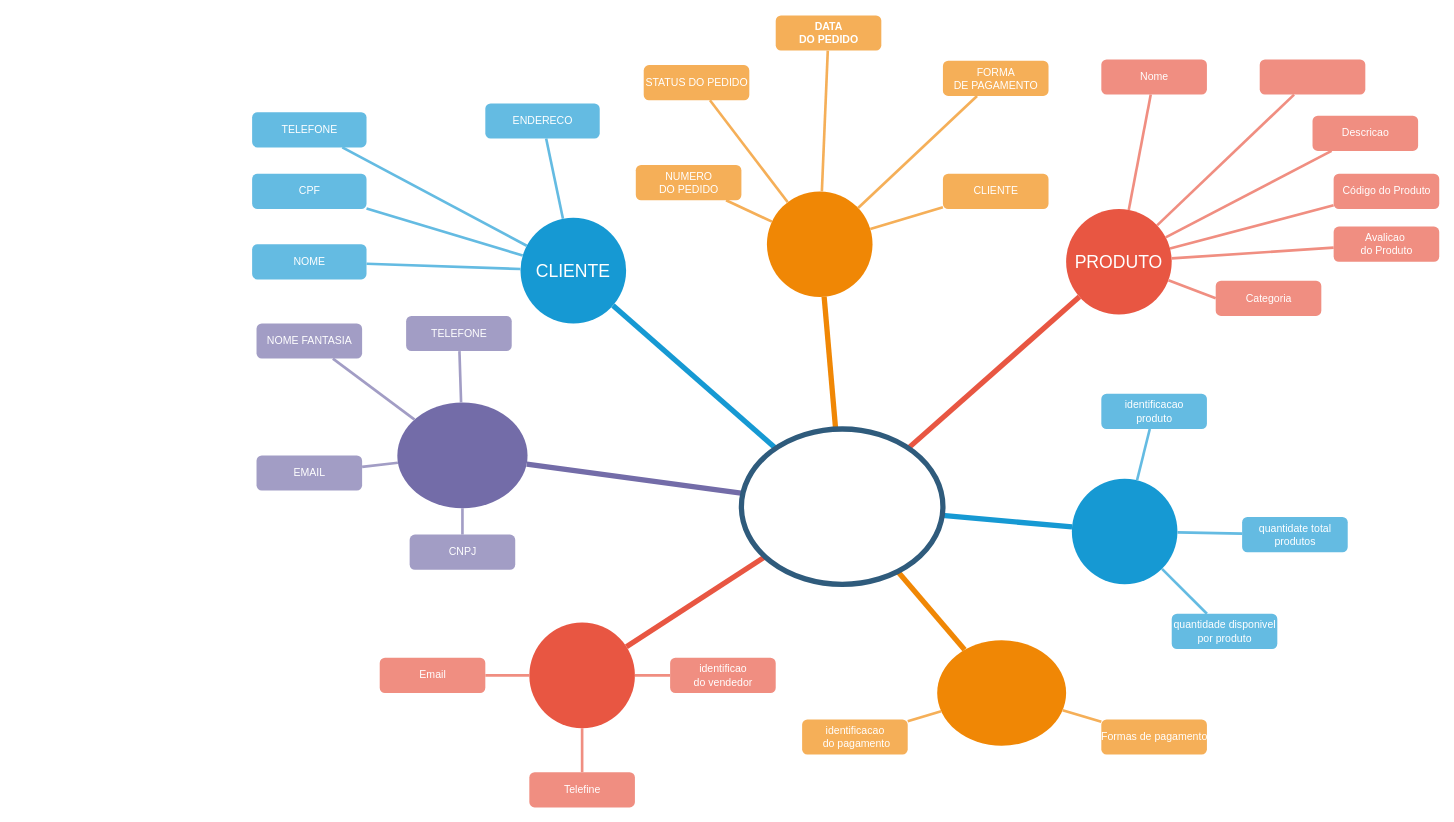
This 1454x822 diagram has some shape labels left out. Here are the shapes that lost their labels. From the top down, the centre of each, then its label:
At (x=1312, y=76): "Valor".
At (x=819, y=244): "PEDIDO".
At (x=462, y=455): "FORNECEDOR".
At (x=841, y=506): "E-commerce".
At (x=1124, y=531): "ESTOQUE".
At (x=581, y=675): "VENDEDOR".
At (x=1001, y=692): "PAGAMENTO".
